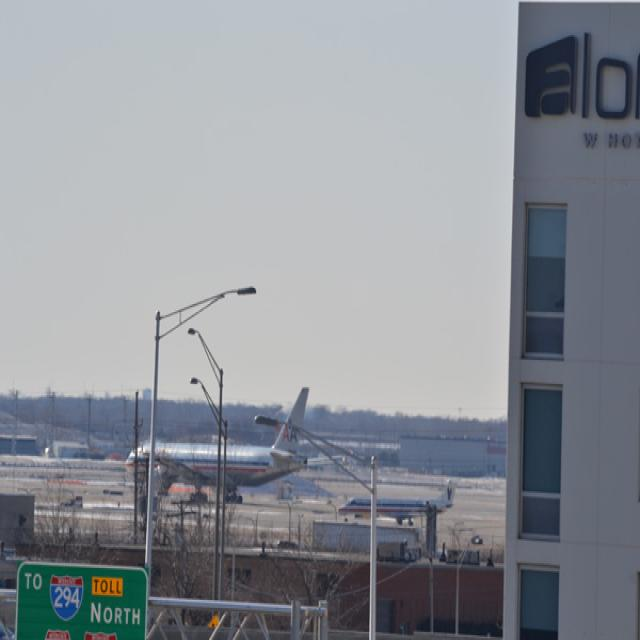airplane: (123, 383, 311, 507)
